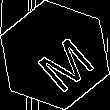M_NW: (20, 21, 90, 89)
